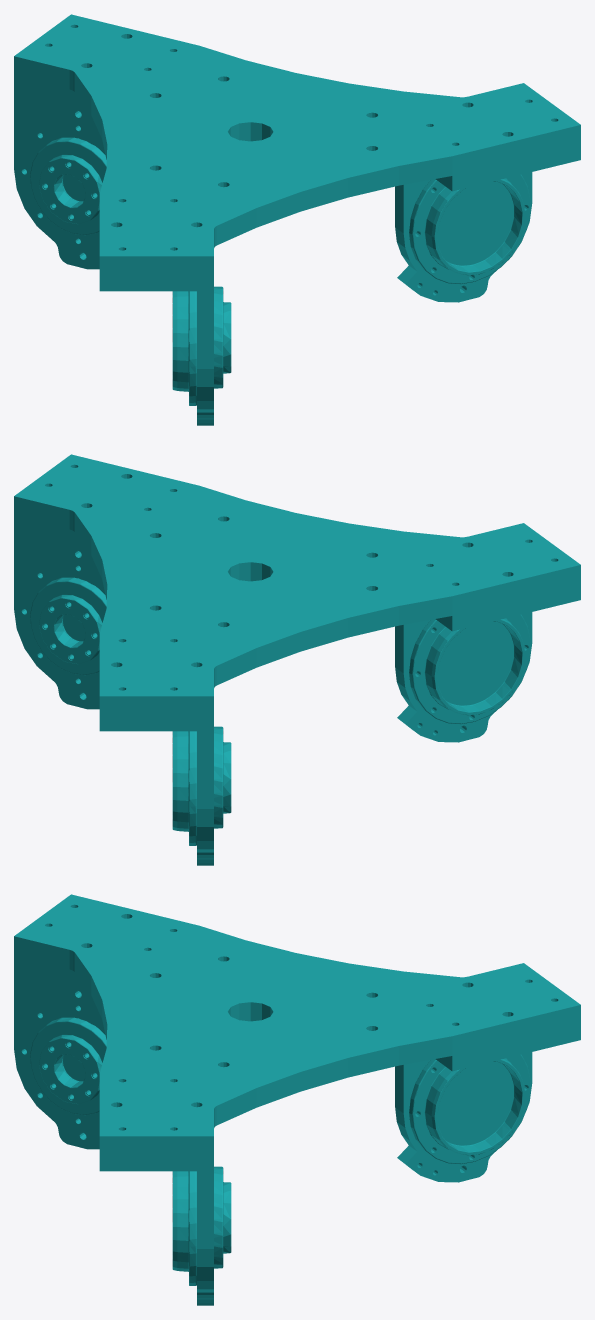
3 renders of one model, top to bottom at view 1: azimuth 30°, elevation 25°; view 2: azimuth 150°, elevation 25°; view 3: azimuth 270°, elevation 25°, orthographic.
Visible parts, largest first — view 1: Base; view 2: Base; view 3: Base.
Part boxes in pixels (left/top/right/bottom): Base: left=14, top=14, right=580, bottom=425; Base: left=14, top=454, right=580, bottom=865; Base: left=14, top=894, right=580, bottom=1305.
Size of the model in its own units: 0.5006 by 0.496 by 0.1884.
